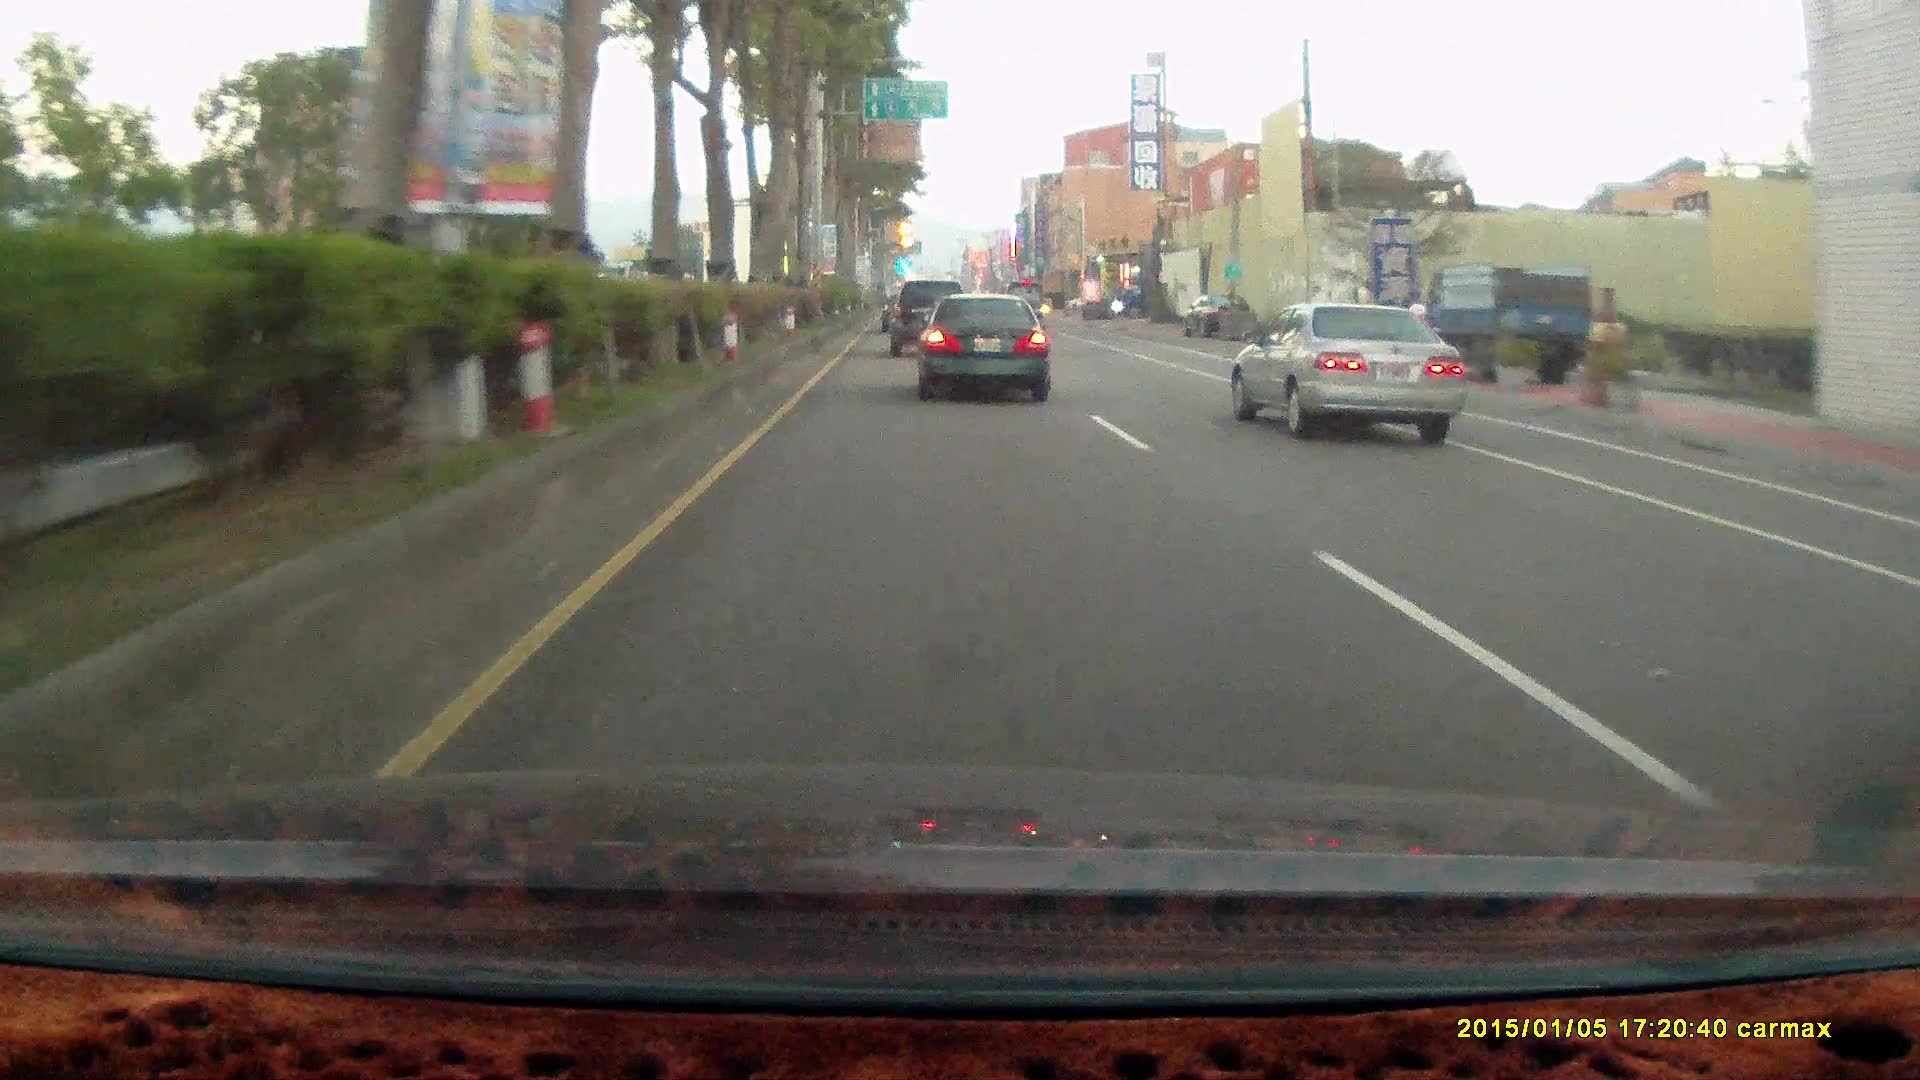vehicle: (1221, 302, 1476, 447), (1229, 301, 1466, 444), (1423, 264, 1590, 386), (1423, 265, 1590, 384), (913, 293, 1050, 402), (922, 295, 1055, 404), (887, 280, 969, 357), (1184, 294, 1262, 344), (1109, 280, 1178, 320), (997, 278, 1044, 326)
